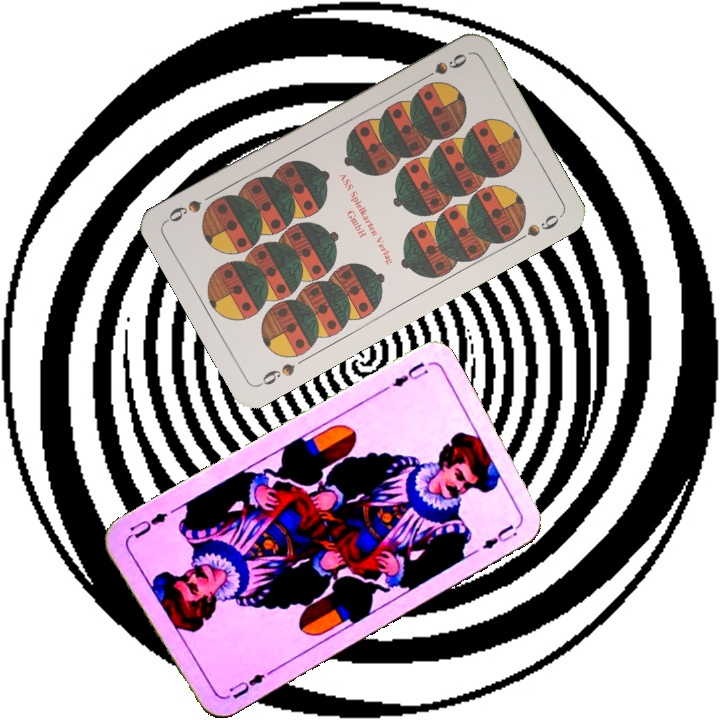EU: (224, 666, 274, 702), (387, 358, 431, 390)
S9: (416, 49, 470, 84), (254, 359, 298, 389)
